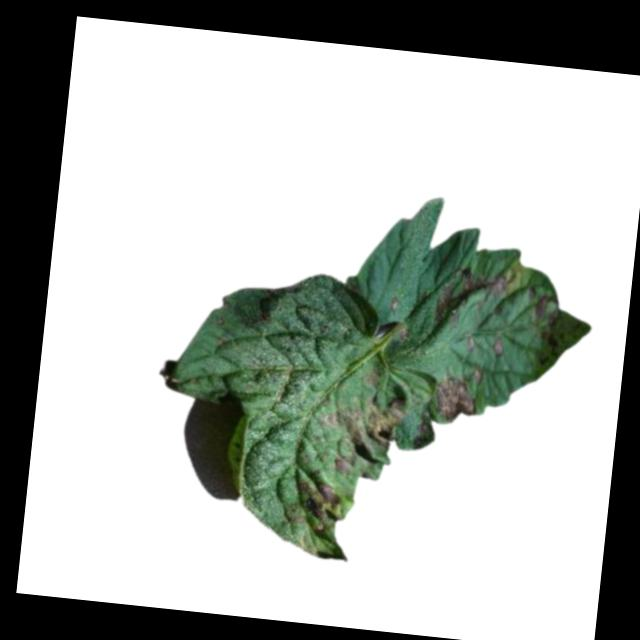Early_blight: (314, 390, 408, 465), (431, 260, 518, 335), (294, 479, 341, 544), (429, 374, 479, 427), (524, 286, 551, 322), (489, 335, 507, 360), (333, 456, 349, 475)
